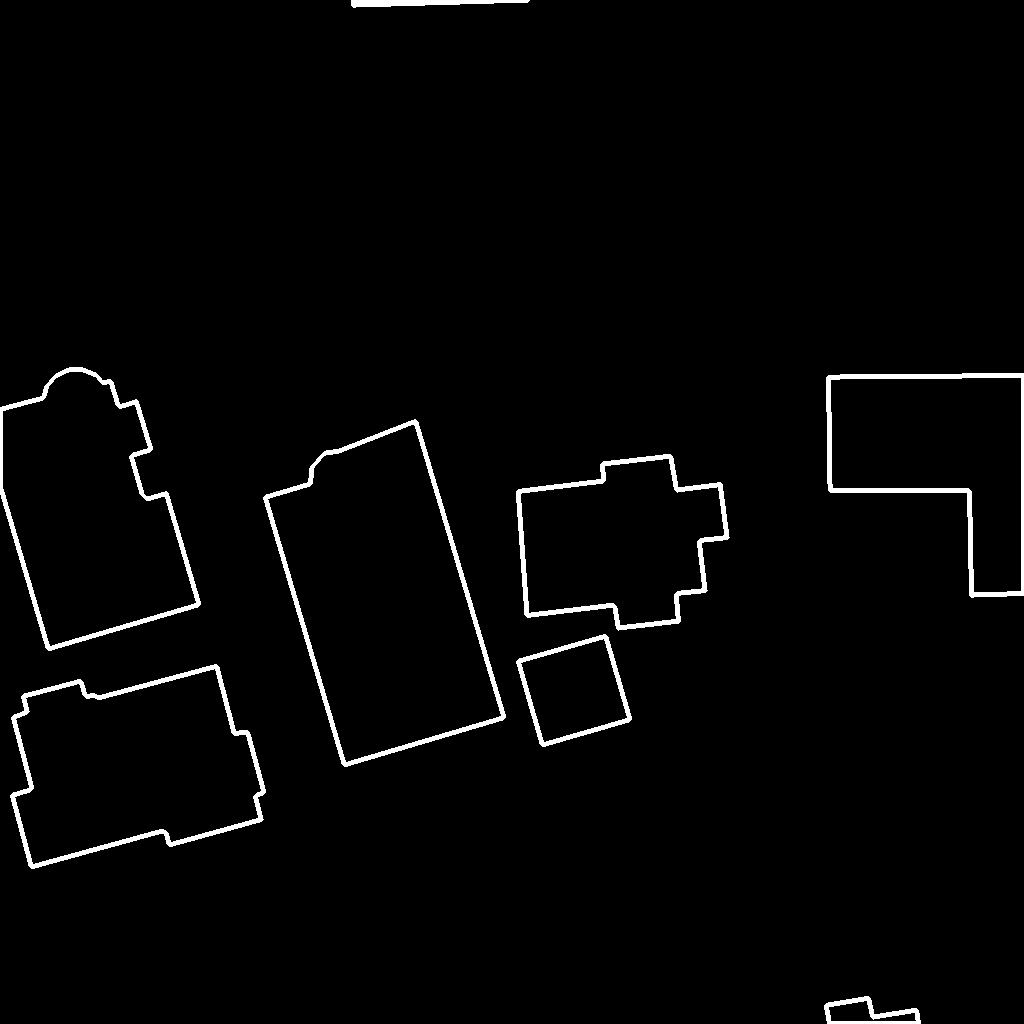building: (265, 421, 505, 766), (0, 369, 200, 650), (12, 666, 265, 868), (828, 375, 1024, 596), (518, 456, 728, 629), (518, 636, 631, 746), (826, 998, 920, 1024), (353, 0, 546, 6)
